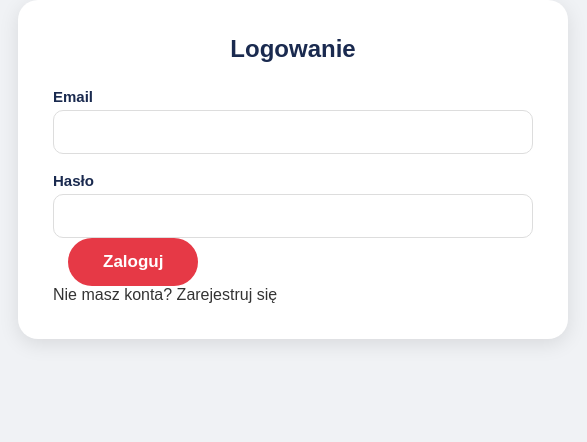
pokazuje komunikat błędu z API
This screenshot has width=587, height=442.
Type "jan@test.pl" into the field labelled "Email" at (293, 132), box x1=53 y1=110 x2=533 y2=154
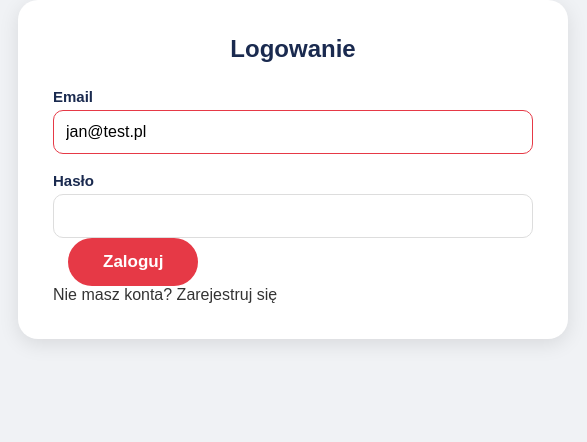
Type "zle" into the password field labelled "Hasło" at (293, 216), box x1=53 y1=194 x2=533 y2=238
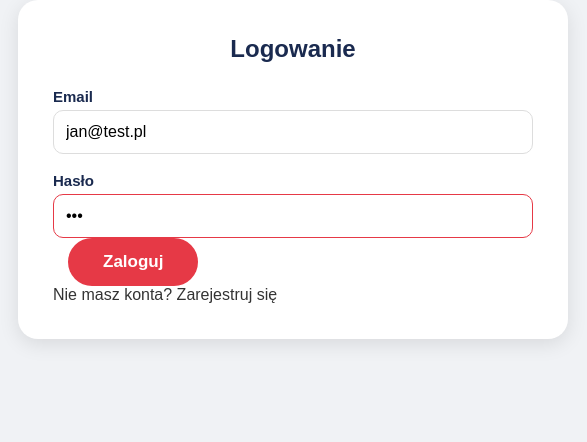
Click the button "Zaloguj" at (133, 262), box x1=68 y1=238 x2=198 y2=286
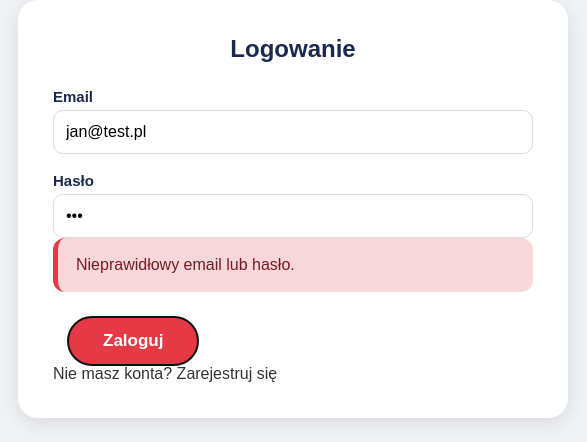
Check: the message reads "Nieprawidłowy email lub hasło.", box x1=76 y1=256 x2=295 y2=273
